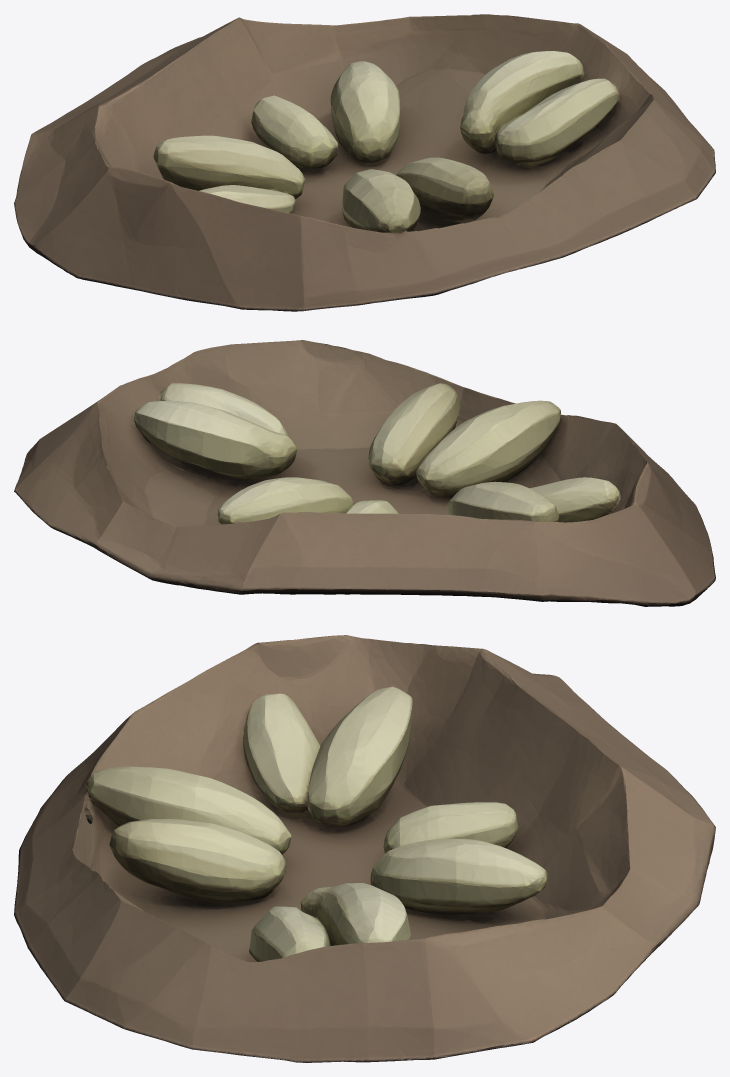
3 renders of one model, top to bottom at view 1: azimuth 30°, elevation 25°; view 2: azimuth 150°, elevation 25°; view 3: azimuth 270°, elevation 25°, orthographic. The views are drawn at different scales.
Visible parts, largest first — view 1: world; view 2: world; view 3: world.
Boxes of the visible parts, box(x1,y1,x2,y2) form: world: box(14, 14, 715, 311); world: box(14, 340, 715, 606); world: box(14, 635, 715, 1062).
Bounding box in the file's own units: 1 × 0.1516 × 0.773.
1 material, 1 textured.
